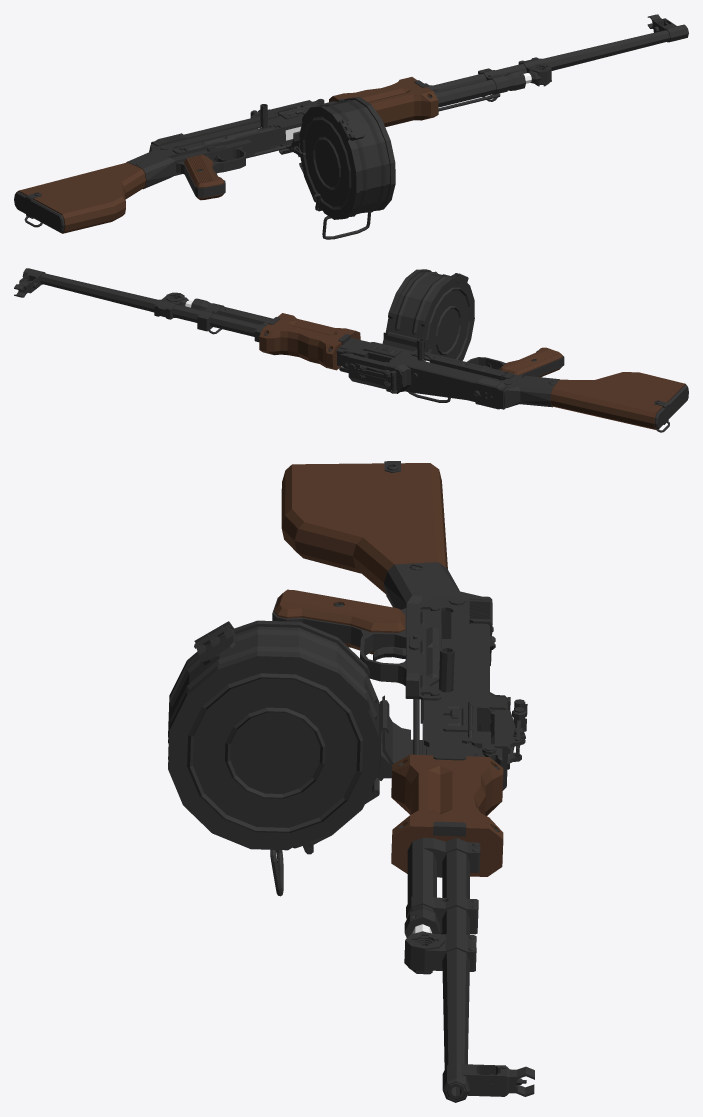
Rendered from Weapon Animation Override.glb.
The picture shows the model from 3 angles, top to bottom: view 1: azimuth 30°, elevation 25°; view 2: azimuth 150°, elevation 25°; view 3: azimuth 270°, elevation 25°; orthographic projection. The views are drawn at different scales.
Parts seen in each view (by area): view 1: machine_gun; view 2: machine_gun; view 3: machine_gun.
Boxes of the visible parts, box(x1,y1,x2,y2) form: machine_gun: box(14, 14, 688, 239); machine_gun: box(14, 268, 688, 432); machine_gun: box(168, 461, 534, 1102).
Size of the model in its own units: 1.01 by 0.1877 by 0.2563.
